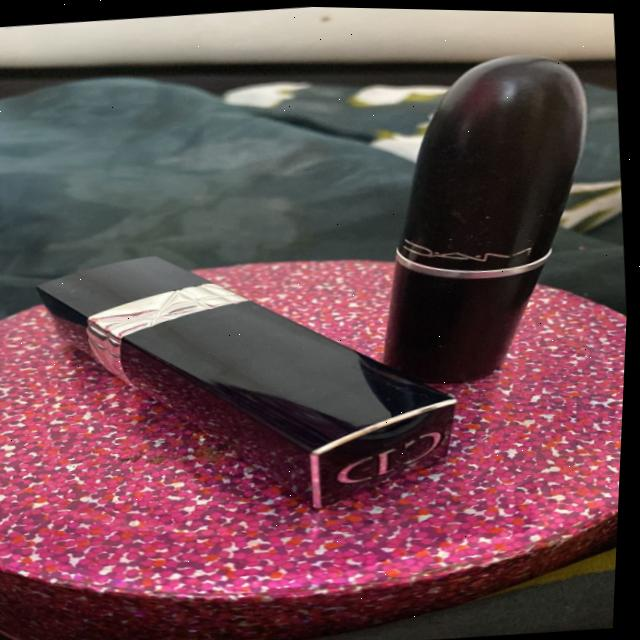lip stick: (0, 199, 468, 551), (355, 35, 631, 393)
